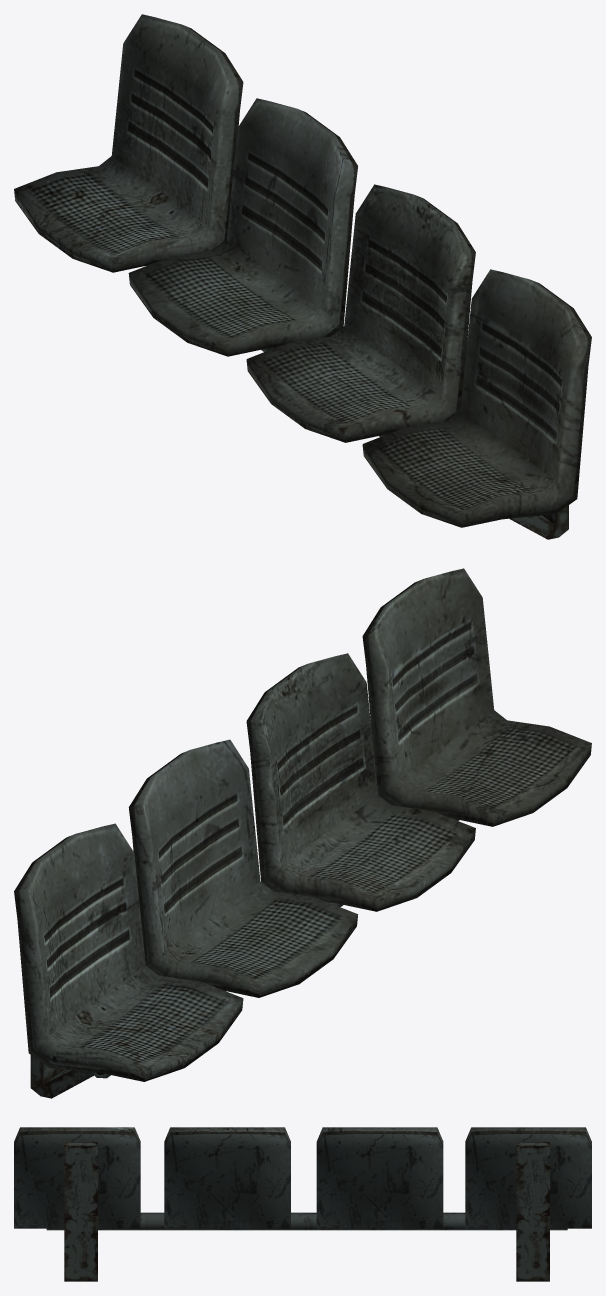
The model's file is Chair.fbx.
3 renders of one model, top to bottom at view 1: azimuth 30°, elevation 25°; view 2: azimuth 150°, elevation 25°; view 3: azimuth 270°, elevation 25°, orthographic. The views are drawn at different scales.
Parts seen in each view (by area): view 1: Chair; view 2: Chair; view 3: Chair.
Part boxes in pixels (x1=…): Chair: x1=14, y1=14, x2=591, y2=539; Chair: x1=14, y1=568, x2=591, y2=1098; Chair: x1=14, y1=1127, x2=591, y2=1281.
Size of the model in its own units: 83.2 by 122 by 416.
